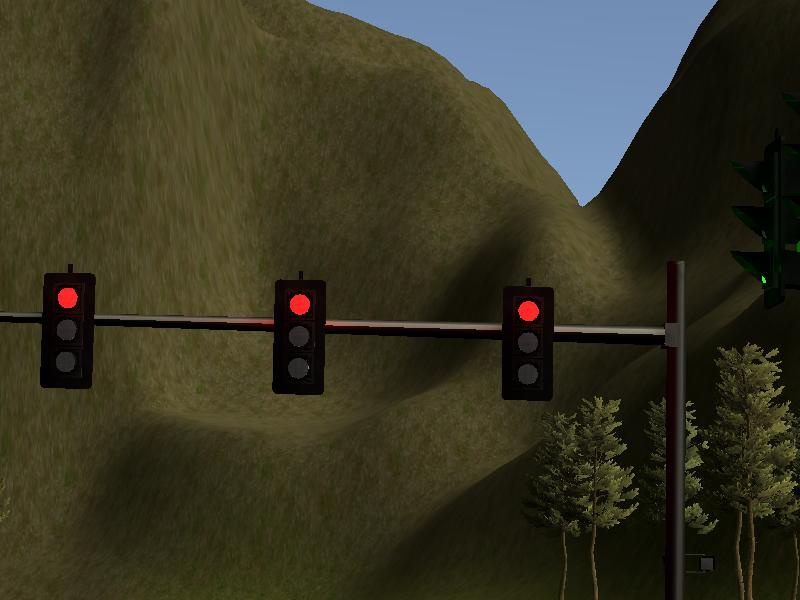Red: (36, 271, 96, 392), (268, 277, 328, 398), (497, 282, 557, 403)
